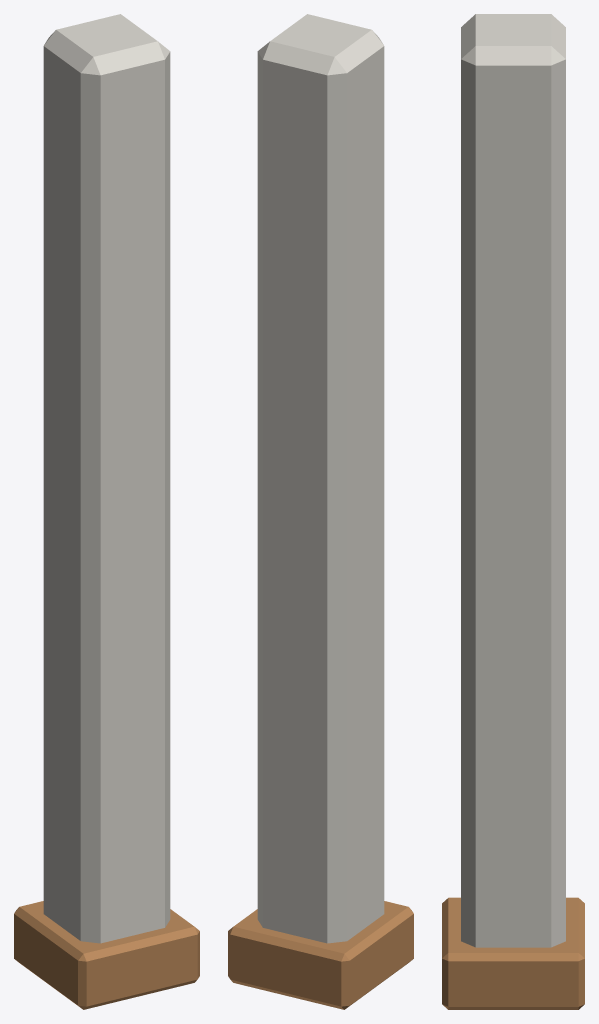
File: SM_Pillar.obj
3 renders of one model, left to right at view 1: azimuth 30°, elevation 25°; view 2: azimuth 150°, elevation 25°; view 3: azimuth 270°, elevation 25°, orthographic.
Visible parts, largest first — view 1: SM_Pillar; view 2: SM_Pillar; view 3: SM_Pillar.
Boxes of the visible parts, x1,y1,x2,y2 form: SM_Pillar: (14,14,199,1009); SM_Pillar: (228,14,413,1009); SM_Pillar: (442,14,584,1009).
Bounding box in the file's own units: 0.68 × 5 × 0.68.
